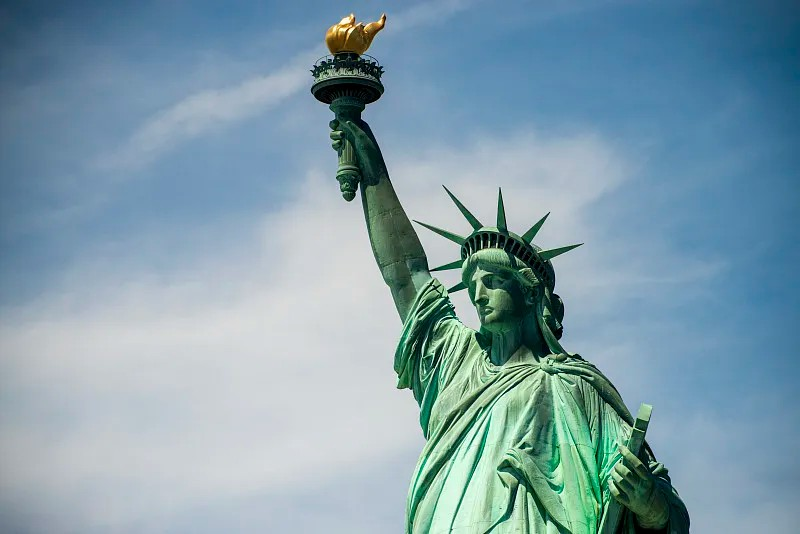SL: (309, 12, 691, 534)
